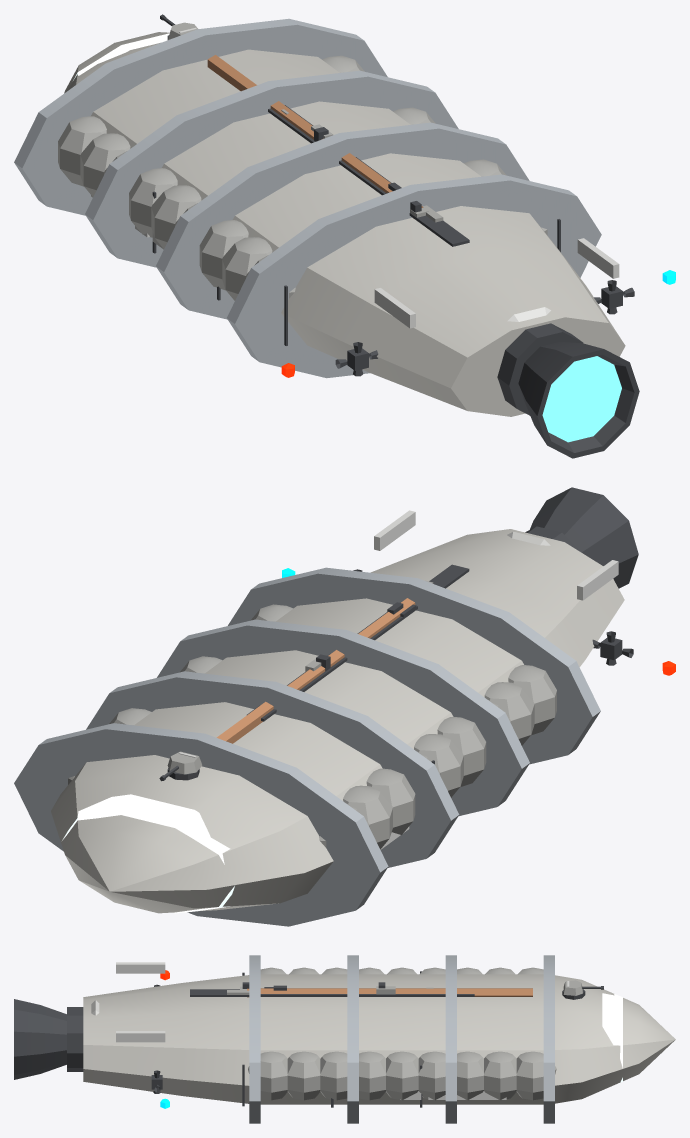
Rendered from cistern.glb.
3 renders of one model, top to bottom at view 1: azimuth 30°, elevation 25°; view 2: azimuth 150°, elevation 25°; view 3: azimuth 270°, elevation 25°, orthographic. The views are drawn at different scales.
Parts seen in each view (by area): view 1: Hull; view 2: Hull, Turret_9; view 3: Hull, Turret_9.
Boxes of the visible parts, box(x1,y1,x2,y2) form: Hull: box(14, 18, 675, 458); Hull: box(14, 487, 675, 926); Turret_9: box(159, 751, 202, 781); Hull: box(14, 955, 675, 1123); Turret_9: box(562, 980, 603, 999).
Size of the model in its own units: 0.9468 by 0.4074 by 2.
